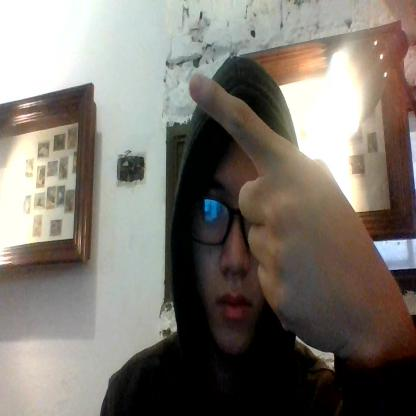right: (185, 67, 379, 346)
